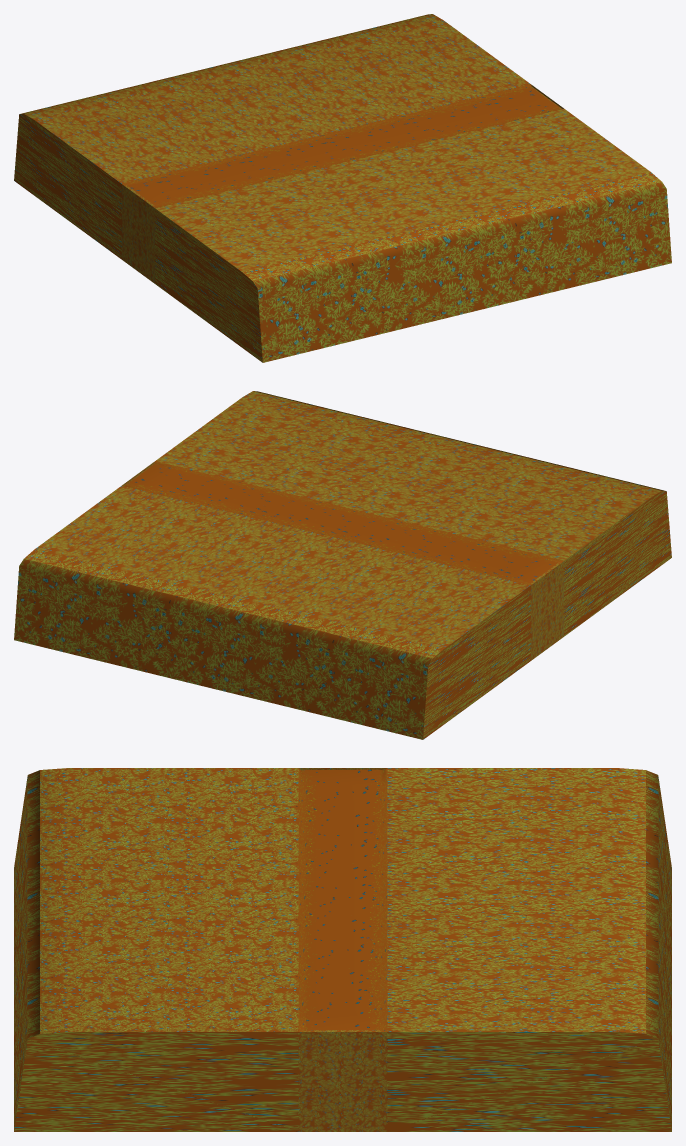
File: wide t3st boi3 .fbx
The picture shows the model from 3 angles, top to bottom: view 1: azimuth 30°, elevation 25°; view 2: azimuth 150°, elevation 25°; view 3: azimuth 270°, elevation 25°; orthographic projection. The views are drawn at different scales.
Parts seen in each view (by area): view 1: Mesh_Path_Straight2; view 2: Mesh_Path_Straight2; view 3: Mesh_Path_Straight2.
Part boxes in pixels (bbox=[...]): Mesh_Path_Straight2: bbox=[14, 14, 671, 362]; Mesh_Path_Straight2: bbox=[14, 391, 671, 739]; Mesh_Path_Straight2: bbox=[14, 768, 671, 1131].
Size of the model in its own units: 5623 by 995 by 5926.
